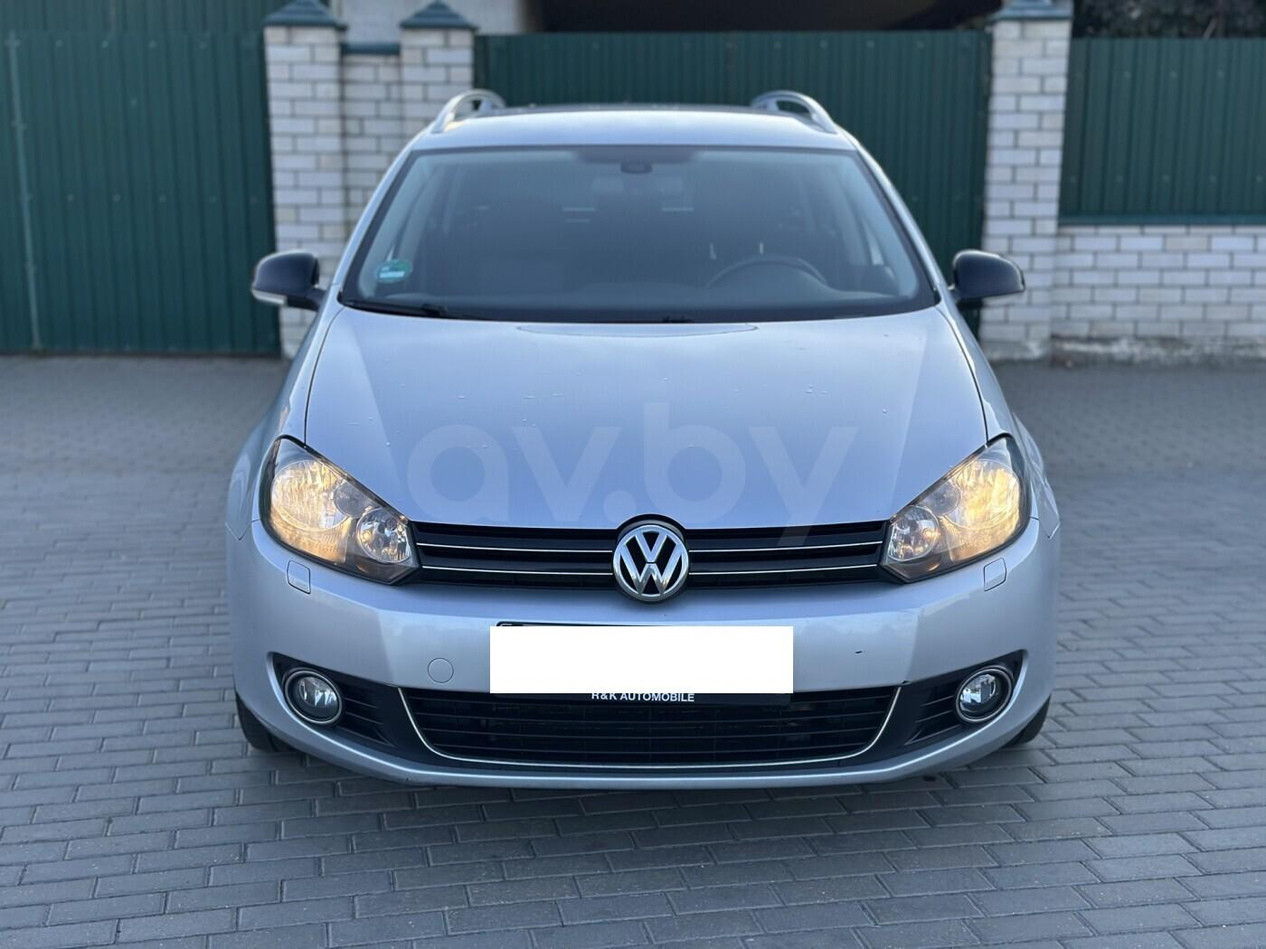Golf_2008-2013: (222, 93, 1067, 795)
